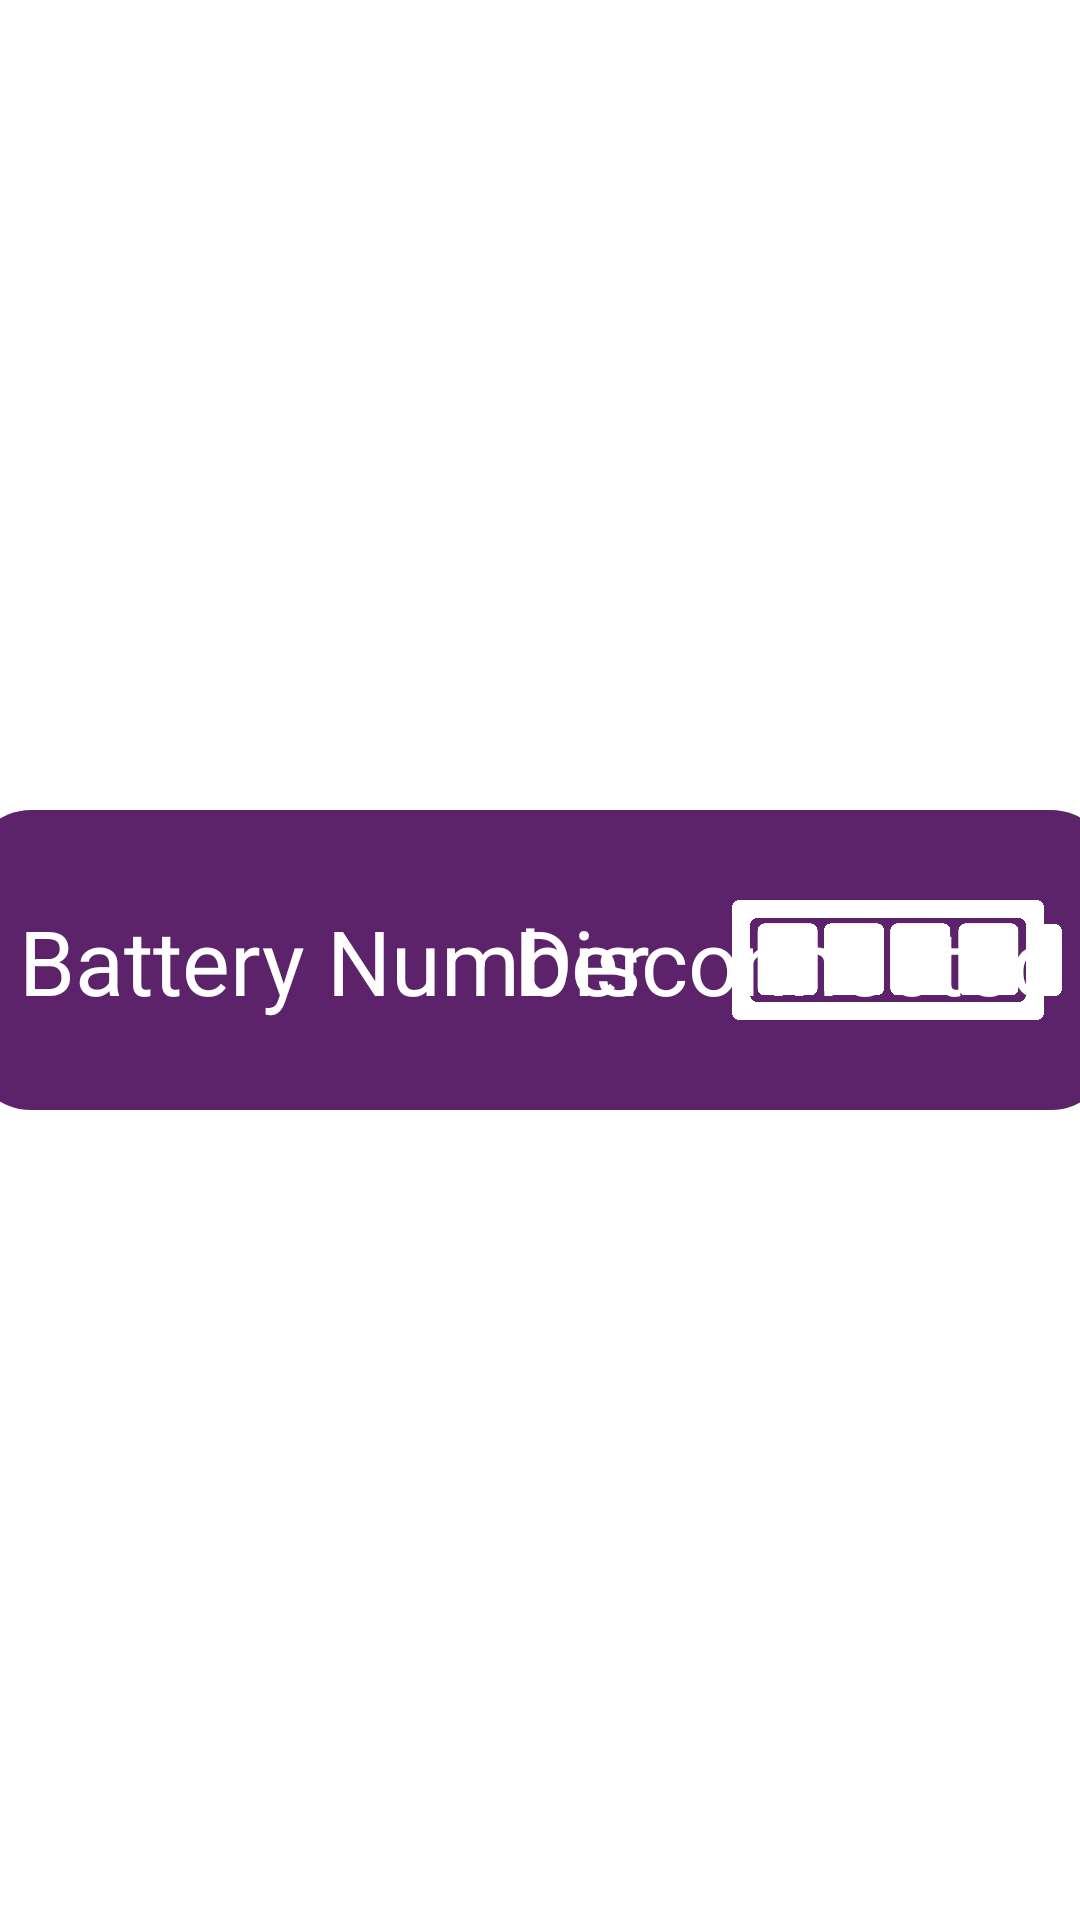

Point at icon controls on the screen. Image size 1080 x 1920, points as [x,y].
Battery Level: [897,960]
